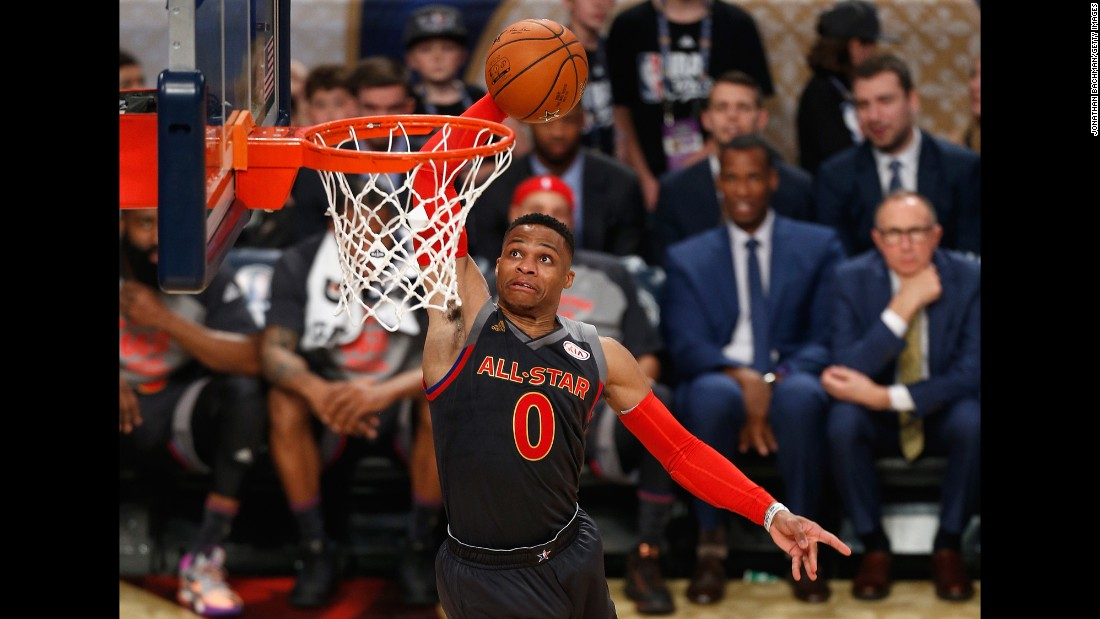basketball: (482, 12, 595, 127)
basketball player: (409, 120, 843, 619)
